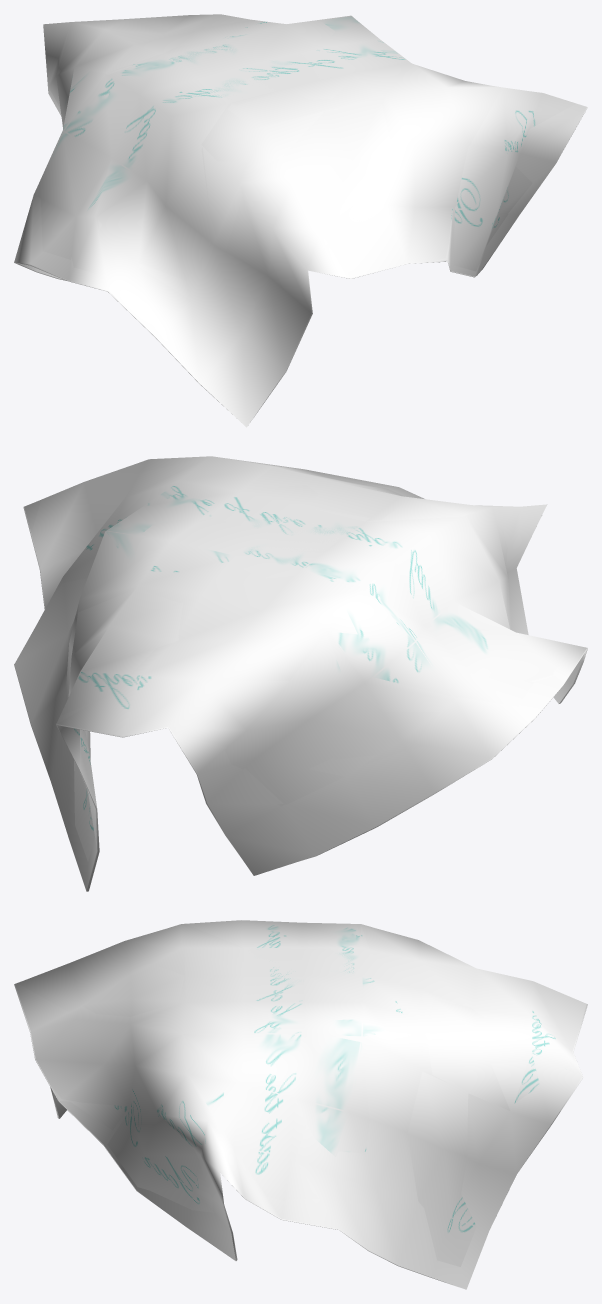
Rendered from paper note.FBX.
The picture shows the model from 3 angles, top to bottom: view 1: azimuth 30°, elevation 25°; view 2: azimuth 150°, elevation 25°; view 3: azimuth 270°, elevation 25°; orthographic projection. The views are drawn at different scales.
Visible parts, largest first — view 1: Box002; view 2: Box002; view 3: Box002.
Part boxes in pixels (x1,y1,x2,y2): Box002: (14,14,587,427); Box002: (14,456,587,891); Box002: (14,920,587,1289).
Size of the model in its own units: 72.87 by 40.37 by 75.7.
1 material, 1 textured.
